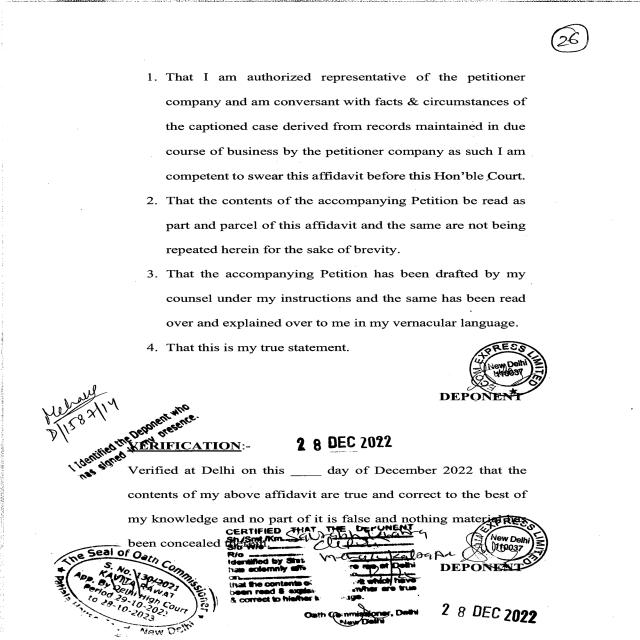page-number: (531, 0, 640, 75)
